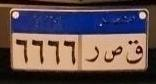6: (62, 38, 78, 66), (46, 38, 60, 67), (30, 38, 45, 65), (15, 38, 29, 65)
qaaf: (126, 38, 144, 66)
raa: (83, 42, 101, 64)
saad: (103, 44, 123, 64)
